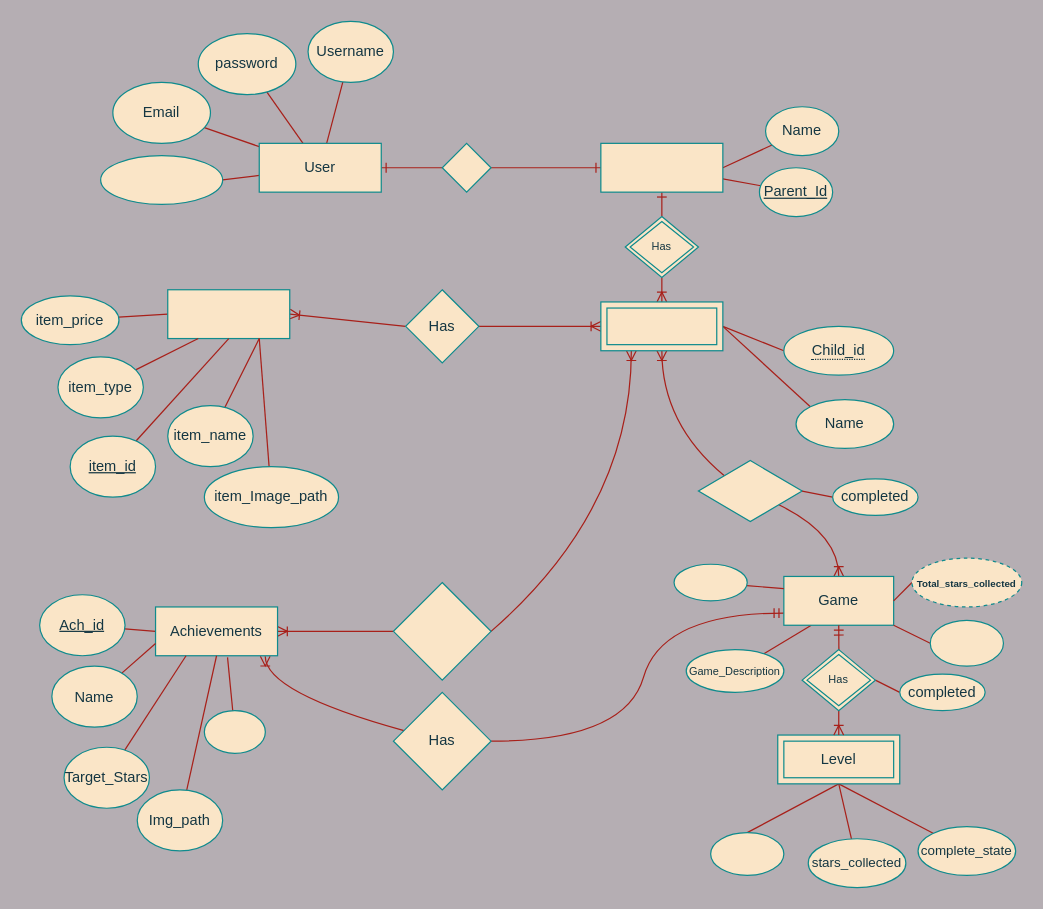
This 1043x909 diagram has some shape labels left out. Here are the shapes that lost their labels. From the top down, the centre of each, then its label:
At [161,179]: "User_Id".
At [466,167]: "Is".
At [661,167]: "Parent".
At [228,314]: "Shop_items".
At [661,326]: "Child".
At [749,490]: "plays".
At [710,582]: "Game_name".
At [441,630]: "owns".
At [966,642]: "Game_id".
At [234,731]: "Hint".
At [746,853]: "level_id".
